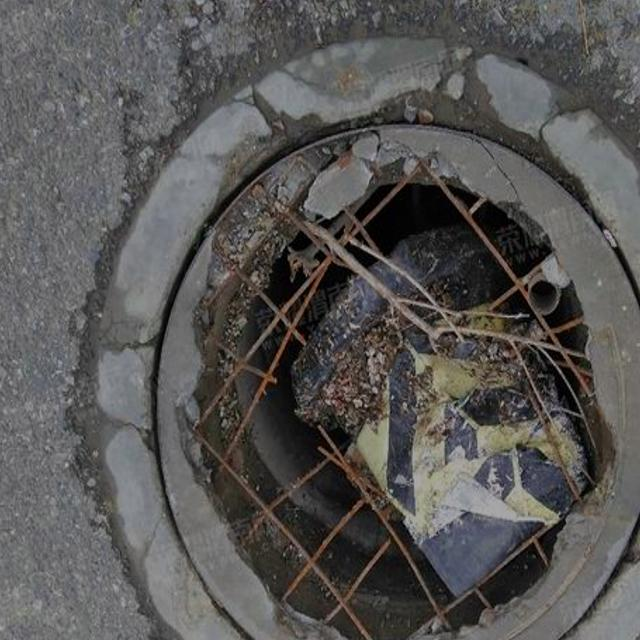broke: (61, 26, 640, 640)
